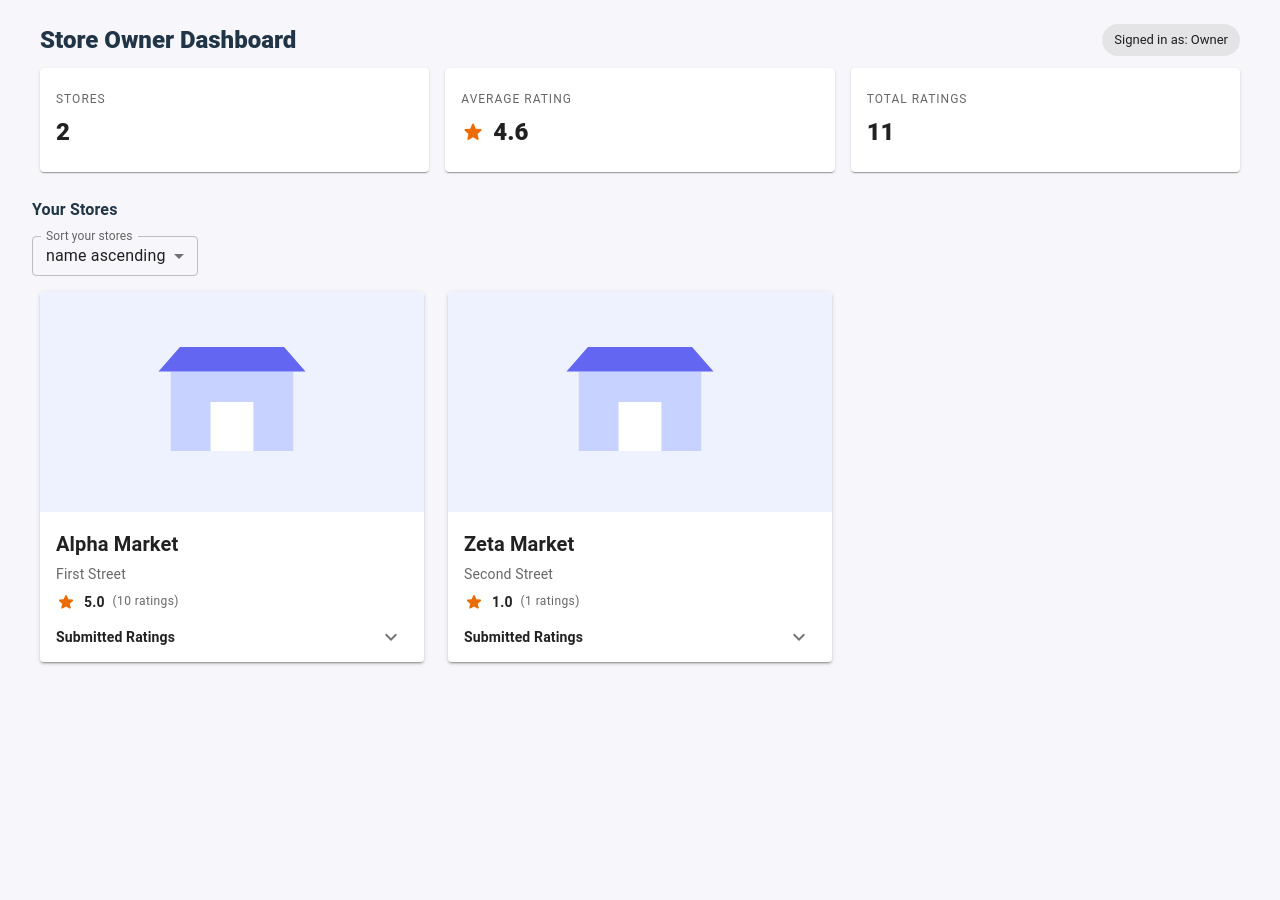
Test case: admin and owner dashboards › owner calculates weighted average and shows raters
Check: the heading "4.6" is shown, box [493,116,528,148]
Click the button named "View ratings for Alpha Market" at (391, 637), box [374,620,408,654]
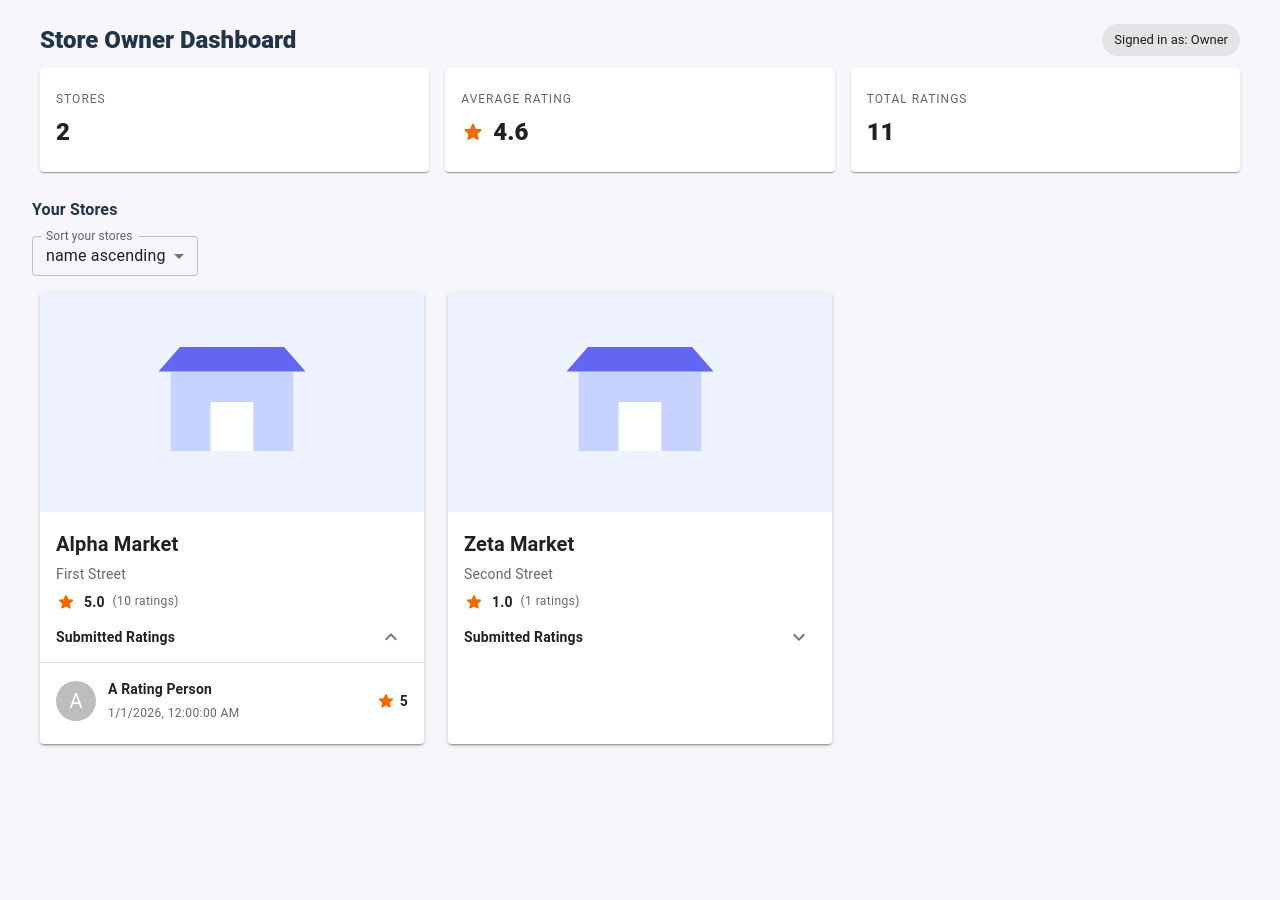
Check: the text "A Rating Person" is shown, box [108,681,212,697]
